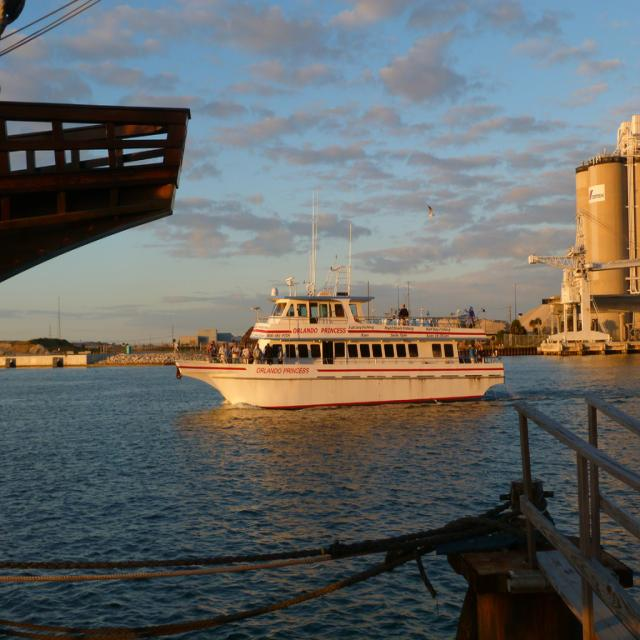Boat: (162, 224, 518, 404)
